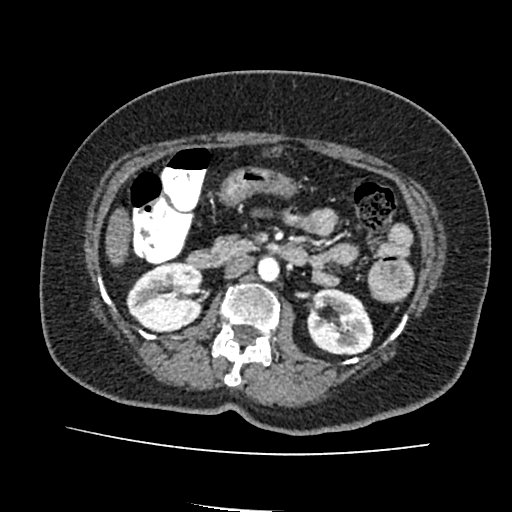aorta: (257, 254, 282, 282)
